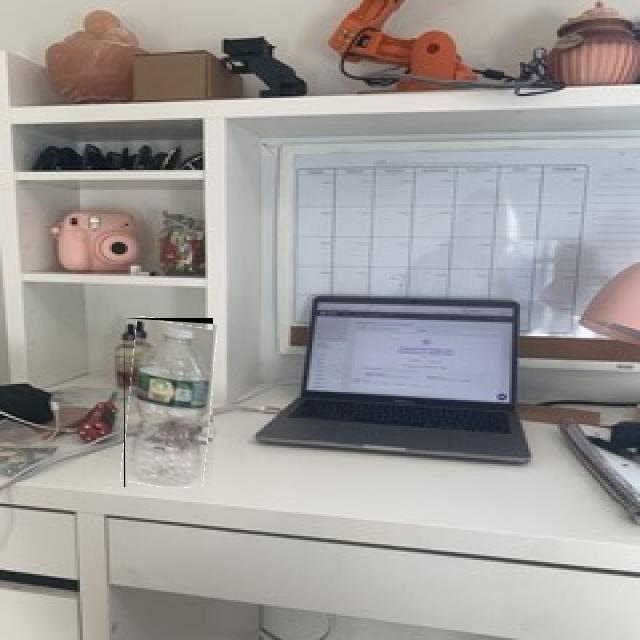water_bottle: (124, 318, 213, 487)
